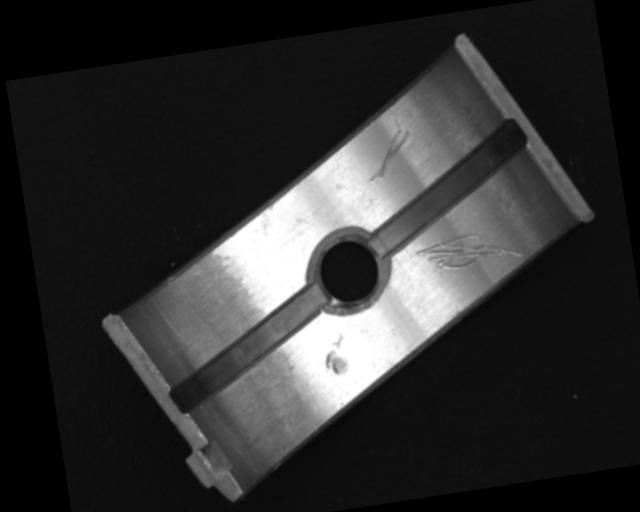bruise: (320, 331, 350, 378)
gap: (357, 119, 539, 257), (158, 282, 334, 414)
hole: (303, 227, 395, 316)
nick: (413, 225, 524, 277), (363, 128, 417, 183)
